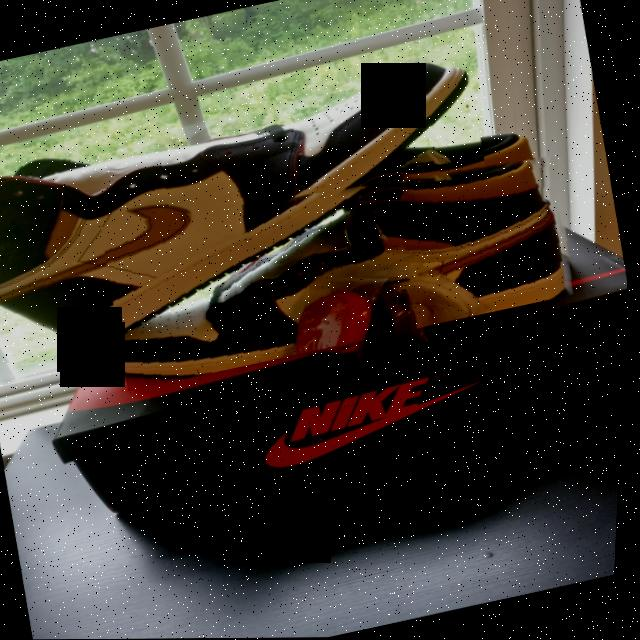shoe: (0, 44, 509, 367), (96, 129, 588, 391)
